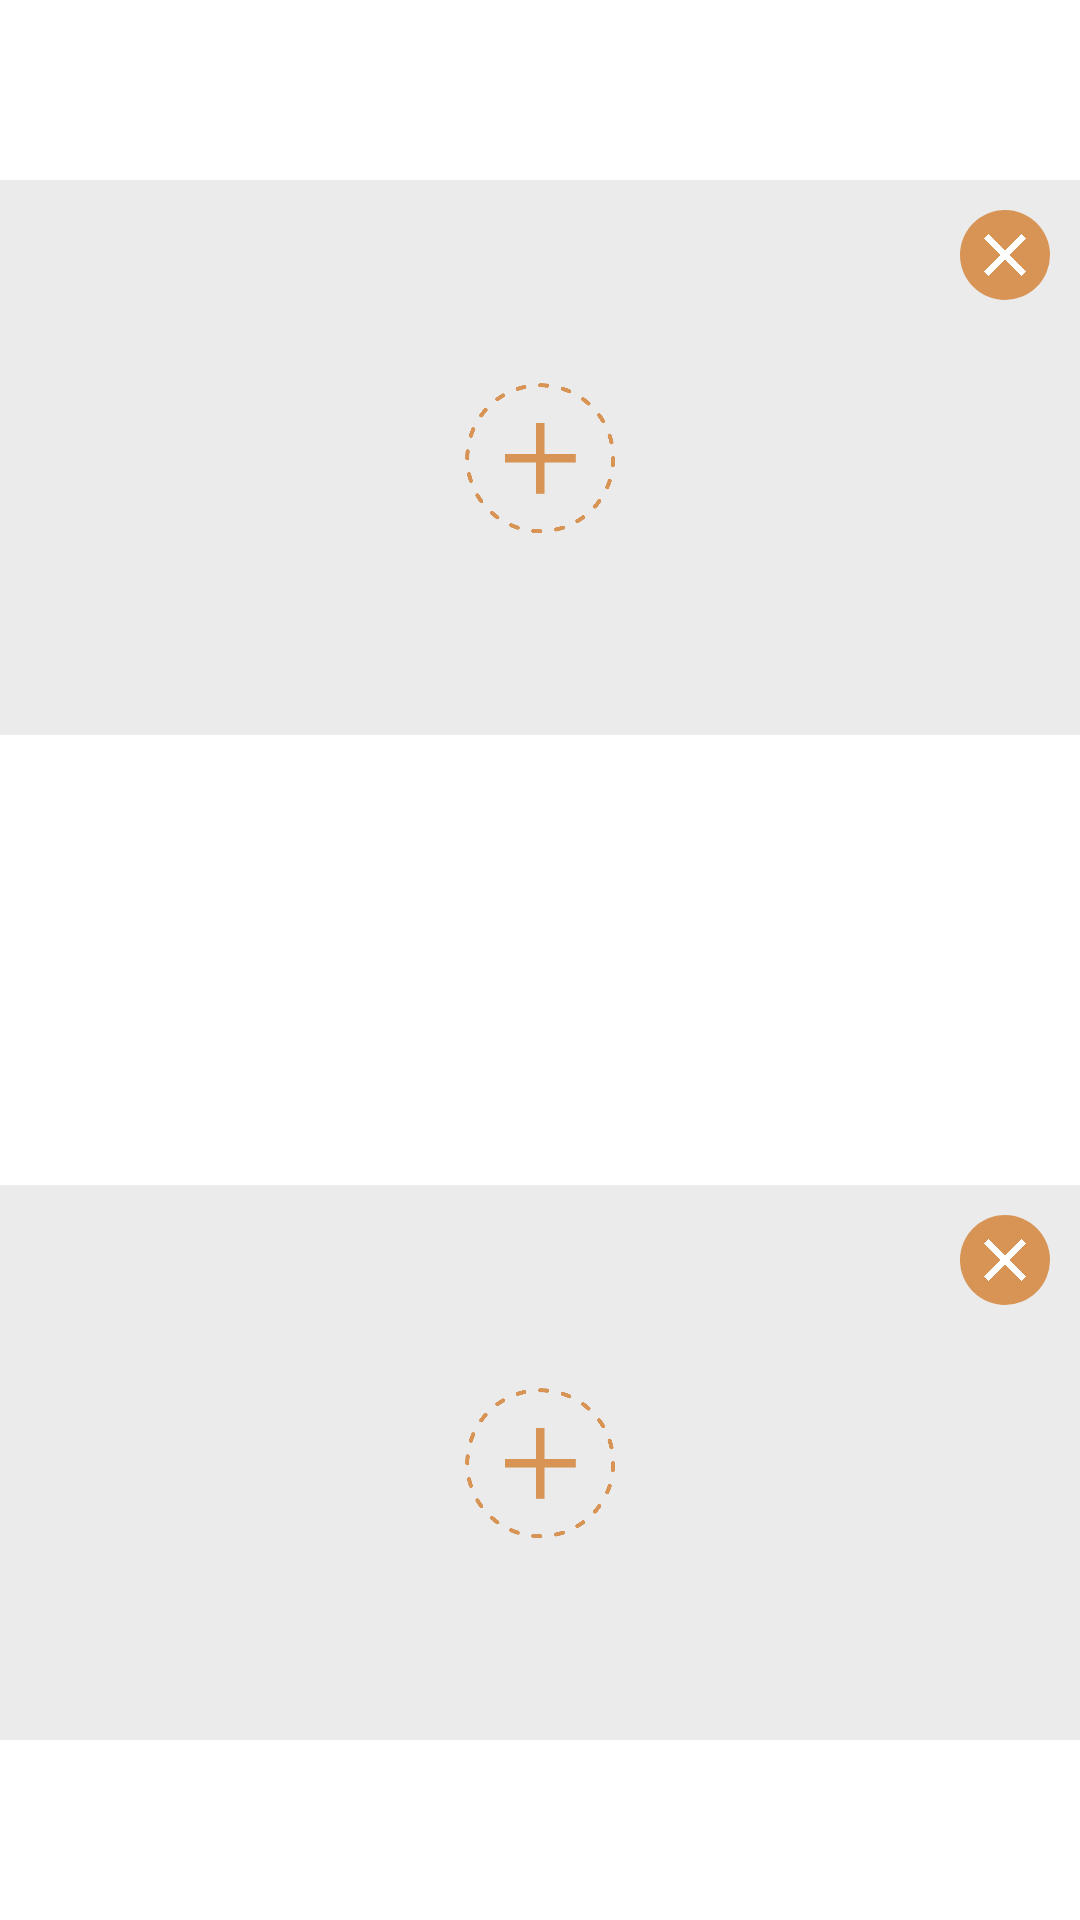

Icon click points for this 1080x1920 phone screenshot, format [x,y]:
add story: [540,458], [540,1463]
